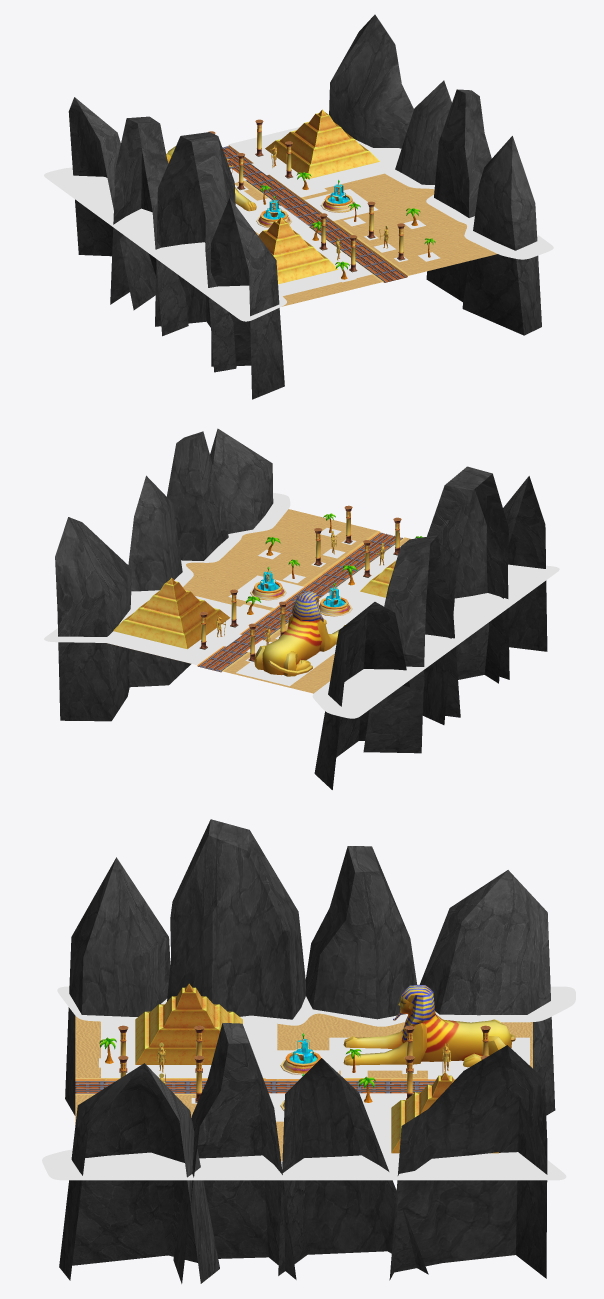
Rendered from Egypt_01.fbx.
The picture shows the model from 3 angles, top to bottom: view 1: azimuth 30°, elevation 25°; view 2: azimuth 150°, elevation 25°; view 3: azimuth 270°, elevation 25°; orthographic projection. The views are drawn at different scales.
Visible parts, largest first — view 1: Egypt_01; view 2: Egypt_01; view 3: Egypt_01.
Part boxes in pixels (x1,y1,x2,y2): Egypt_01: (44,14,553,399); Egypt_01: (44,428,559,789); Egypt_01: (42,819,575,1283).
Size of the model in its own units: 22617 by 13384 by 25170.
Materials: 16 (16 with a texture image).
